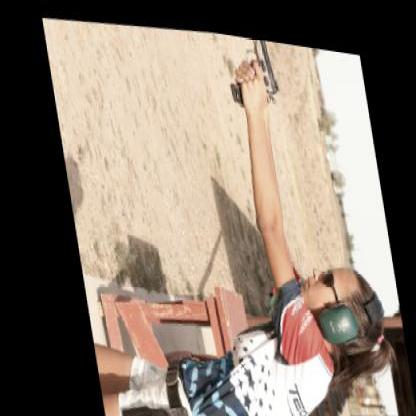pistol: (219, 27, 286, 111)
